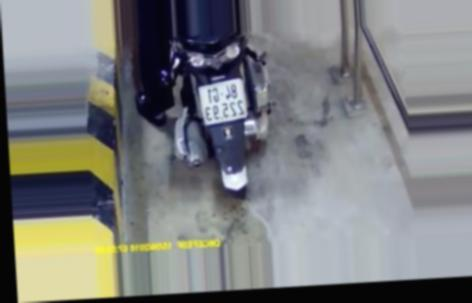License_Plate: (196, 76, 252, 127)
